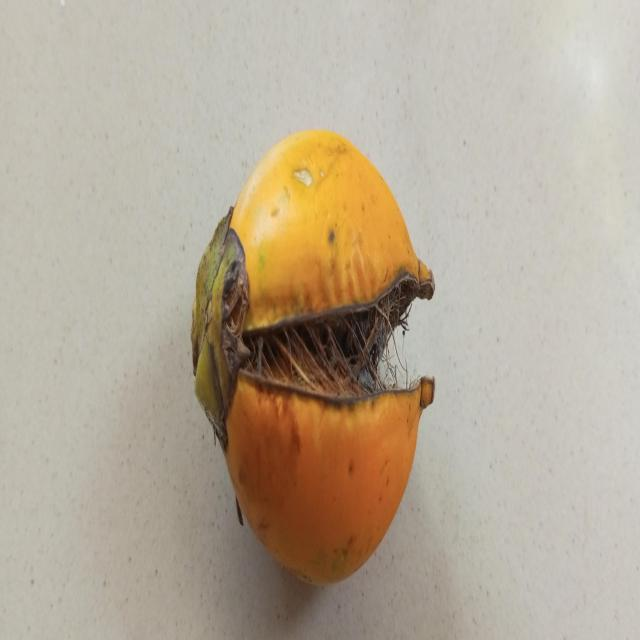damaged: (191, 130, 435, 584)
